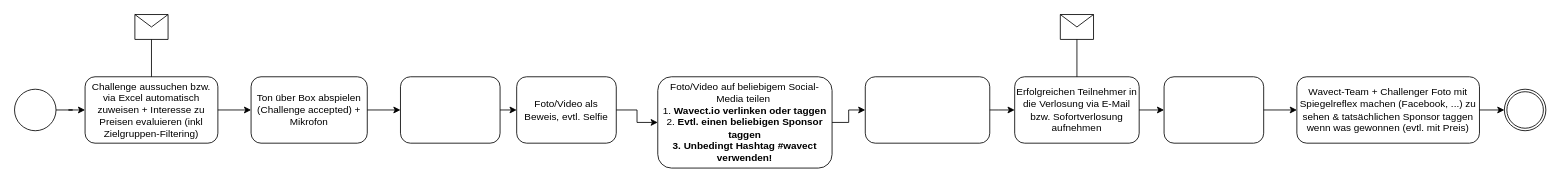
The diagram is 1560 pixels wide and 183 high, and some of its shapes have lost their labels. The centre of each missing label's shape, as x and y in pixels:
"Challenge lösen lassen + weitere Instruktionen geben" belongs at (450,109).
"Sticker auf die Brust kleben + einen so mitgeben" belongs at (1213,109).
"Ton über Box abspielen + Mikrofon, dass jmd Challenge geschafft" belongs at (927,109).
